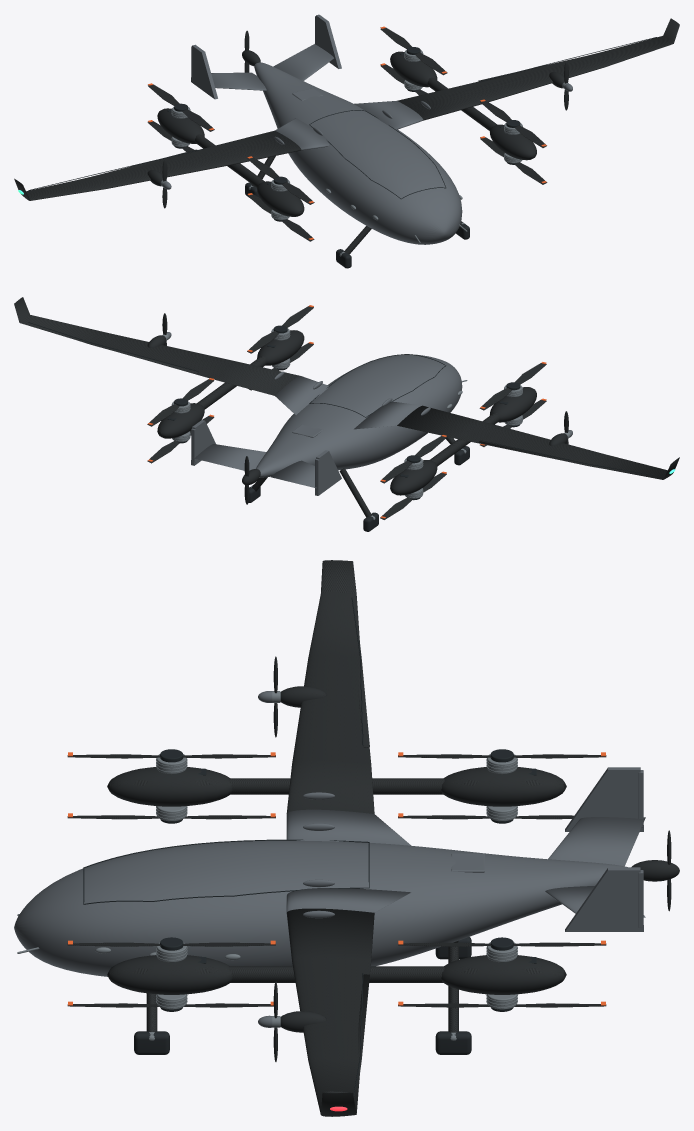
The picture shows the model from 3 angles, top to bottom: view 1: azimuth 30°, elevation 25°; view 2: azimuth 150°, elevation 25°; view 3: azimuth 270°, elevation 25°; orthographic projection. The views are drawn at different scales.
Visible parts, largest first — view 1: Fuselage_Shell, Right_Main_Wing, Left_Main_Wing, Right_Tailplane, Left_Front_Motor_Pod, Right_Front_Motor_Pod, Right_Rear_Motor_Pod, Left_Rear_Motor_Pod, Left_Vertical_Fin, Left_Tailplane, Right_Vertical_Fin, Left_Longitudinal_Boom (+1 smaller); view 2: Fuselage_Shell, Right_Main_Wing, Left_Main_Wing, Right_Tailplane, Left_Rear_Motor_Pod, Right_Rear_Motor_Pod, Right_Front_Motor_Pod, Left_Front_Motor_Pod, Left_Tailplane, Left_Vertical_Fin, Left_Longitudinal_Boom, Right_Longitudinal_Boom (+2 smaller); view 3: Fuselage_Shell, Left_Main_Wing, Right_Main_Wing, Left_Rear_Motor_Pod, Left_Front_Motor_Pod, Right_Rear_Motor_Pod, Right_Front_Motor_Pod, Right_Vertical_Fin, Left_Tailplane, Left_Vertical_Fin, Right_Longitudinal_Boom, Left_Longitudinal_Boom (+2 smaller).
Part boxes in pixels (<box>): Fuselage_Shell: <box>254,62,462,244</box>; Right_Main_Wing: <box>397,18,679,120</box>; Left_Main_Wing: <box>14,130,301,200</box>; Right_Tailplane: <box>273,44,334,80</box>; Left_Front_Motor_Pod: <box>257,181,304,216</box>; Right_Front_Motor_Pod: <box>490,124,536,160</box>; Right_Rear_Motor_Pod: <box>390,51,437,87</box>; Left_Rear_Motor_Pod: <box>157,108,204,143</box>; Left_Vertical_Fin: <box>191,44,217,99</box>; Left_Tailplane: <box>211,72,266,90</box>; Right_Vertical_Fin: <box>316,14,341,68</box>; Left_Longitudinal_Boom: <box>195,134,264,187</box>; Fuselage_Shell: <box>256,354,462,477</box>; Right_Main_Wing: <box>14,297,299,395</box>; Left_Main_Wing: <box>397,405,679,479</box>; Right_Tailplane: <box>192,444,266,470</box>; Left_Rear_Motor_Pod: <box>390,460,437,495</box>; Right_Rear_Motor_Pod: <box>157,403,204,438</box>; Right_Front_Motor_Pod: <box>257,330,304,365</box>; Left_Front_Motor_Pod: <box>489,387,536,422</box>; Left_Tailplane: <box>271,460,316,488</box>; Left_Vertical_Fin: <box>315,450,341,495</box>; Left_Longitudinal_Boom: <box>430,413,499,466</box>; Right_Longitudinal_Boom: <box>197,356,266,409</box>; Fuselage_Shell: <box>14,809,627,976</box>; Left_Main_Wing: <box>286,560,374,813</box>; Right_Main_Wing: <box>286,908,374,1116</box>; Left_Rear_Motor_Pod: <box>441,767,566,806</box>; Left_Front_Motor_Pod: <box>107,767,232,806</box>; Right_Rear_Motor_Pod: <box>441,955,566,994</box>; Right_Front_Motor_Pod: <box>107,955,232,994</box>; Right_Vertical_Fin: <box>565,867,643,931</box>; Left_Tailplane: <box>548,817,645,866</box>; Left_Vertical_Fin: <box>565,767,643,831</box>; Right_Longitudinal_Boom: <box>229,966,444,982</box>; Left_Longitudinal_Boom: <box>229,778,444,794</box>.
Bounding box in the file's own units: 7 × 1.15 × 3.71.
8 materials, 1 textured.
